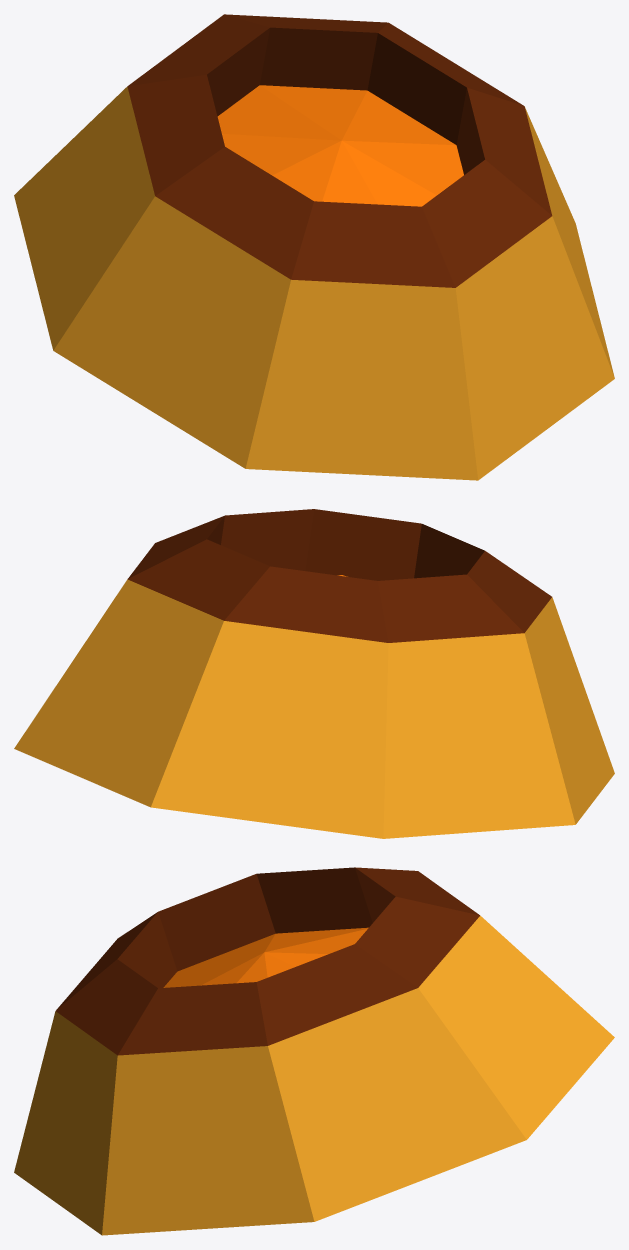
Rendered from Poleyn 09.FBX.
The picture shows the model from 3 angles, top to bottom: view 1: azimuth 30°, elevation 25°; view 2: azimuth 150°, elevation 25°; view 3: azimuth 270°, elevation 25°; orthographic projection. The views are drawn at different scales.
Visible parts, largest first — view 1: Poleyn 09; view 2: Poleyn 09; view 3: Poleyn 09.
Boxes of the visible parts, box(x1,y1,x2,y2) form: Poleyn 09: box(14, 14, 614, 480); Poleyn 09: box(14, 509, 614, 838); Poleyn 09: box(14, 867, 614, 1235).
Bounding box in the file's own units: 13.59 × 7.47 × 14.75.
